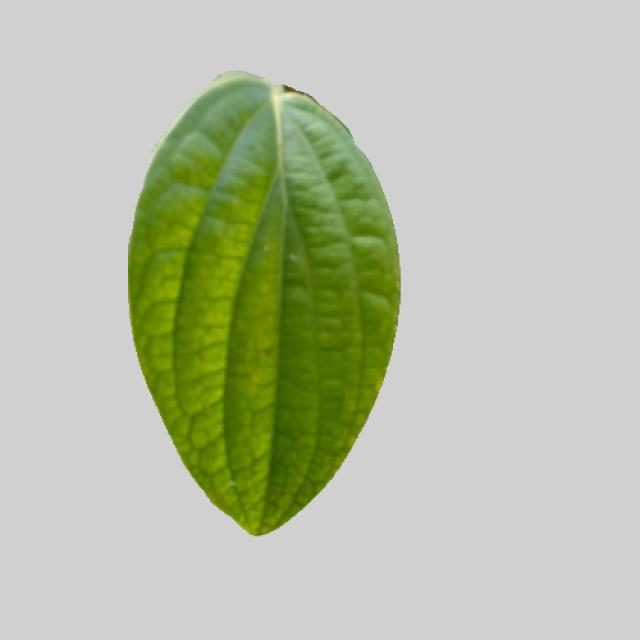healthy: (114, 72, 411, 551)
